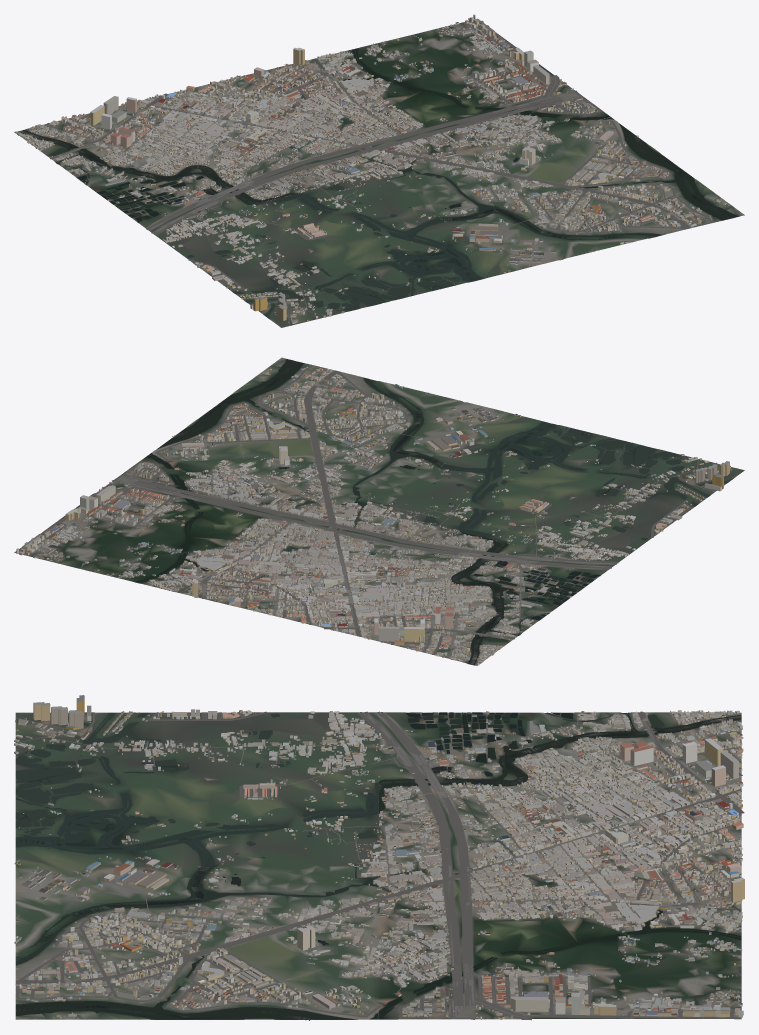
3 views of the same model, one above another, from view 1: azimuth 30°, elevation 25°; view 2: azimuth 150°, elevation 25°; view 3: azimuth 270°, elevation 25° (orthographic). The views are drawn at different scales.
Visible parts, largest first — view 1: ground, buildings, water, roads; view 2: ground, buildings, water, roads; view 3: ground, buildings, water, roads.
Part boxes in pixels (x1,y1,x2,y2): ground: (14,22,744,327); buildings: (14,14,729,324); water: (17,48,738,318); roads: (35,18,712,325); ground: (18,357,744,665); buildings: (16,366,731,665); water: (134,359,731,665); roads: (14,365,736,657); ground: (15,712,741,1019); buildings: (14,695,744,1019); water: (16,712,741,1020); roads: (15,711,744,1020).
Size of the model in its own units: 2830 by 90.7 by 2820.
